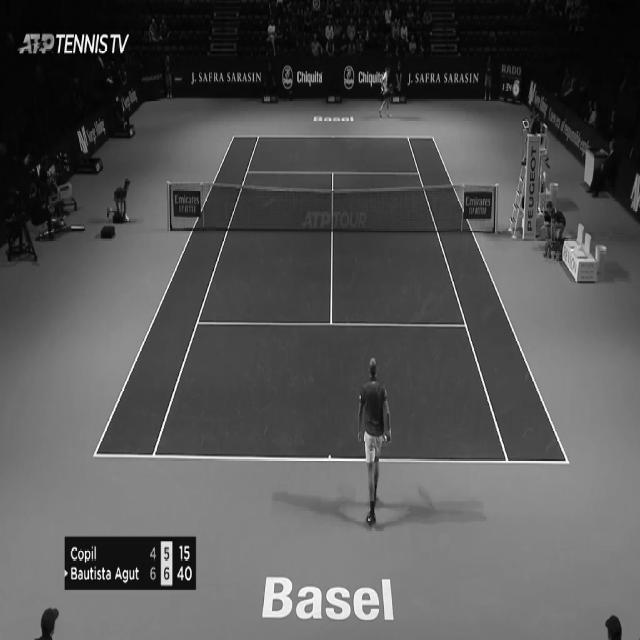tennis-court: (92, 135, 570, 464)
